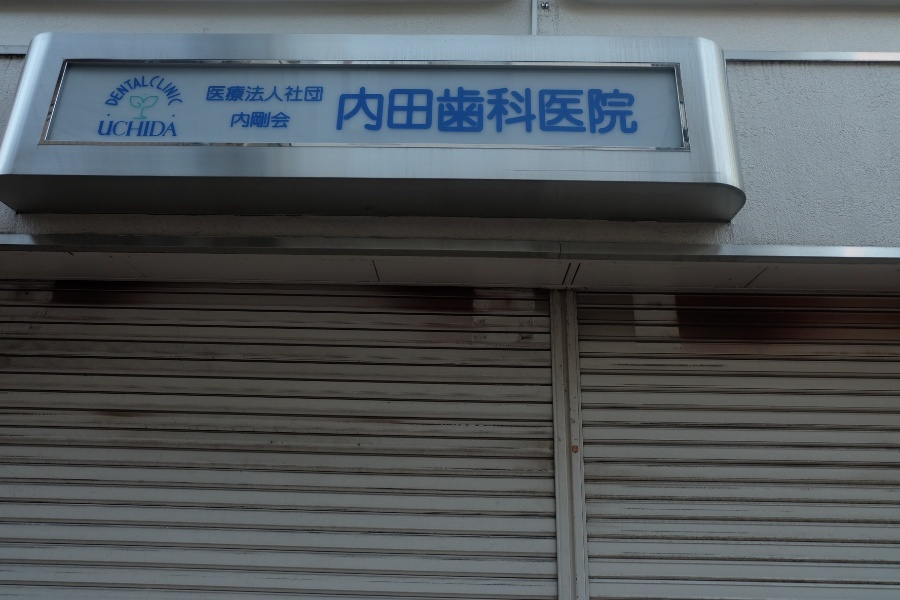text: (353, 88, 368, 136), (369, 88, 384, 136), (385, 88, 400, 136), (401, 88, 416, 136), (417, 88, 432, 136), (433, 88, 448, 136), (449, 88, 464, 136), (465, 88, 480, 136), (481, 88, 496, 136), (497, 88, 512, 136), (513, 88, 528, 136), (529, 88, 544, 136), (545, 88, 560, 136), (561, 88, 576, 136), (577, 88, 592, 136), (593, 88, 608, 136), (609, 88, 624, 136), (625, 88, 640, 136), (341, 88, 352, 136), (113, 75, 128, 107), (129, 75, 144, 107), (145, 75, 160, 107), (161, 75, 176, 107), (241, 111, 256, 129), (257, 111, 272, 129), (273, 111, 288, 129), (209, 86, 224, 102), (225, 86, 240, 102), (241, 86, 256, 102), (257, 86, 272, 102), (273, 86, 288, 102), (289, 86, 304, 102), (305, 86, 320, 102), (113, 120, 128, 136), (129, 120, 144, 136), (145, 120, 160, 136), (161, 120, 176, 136), (105, 75, 112, 107), (100, 120, 112, 136), (177, 75, 183, 107), (233, 111, 240, 129), (289, 111, 292, 129), (321, 86, 324, 102), (177, 120, 178, 136)
